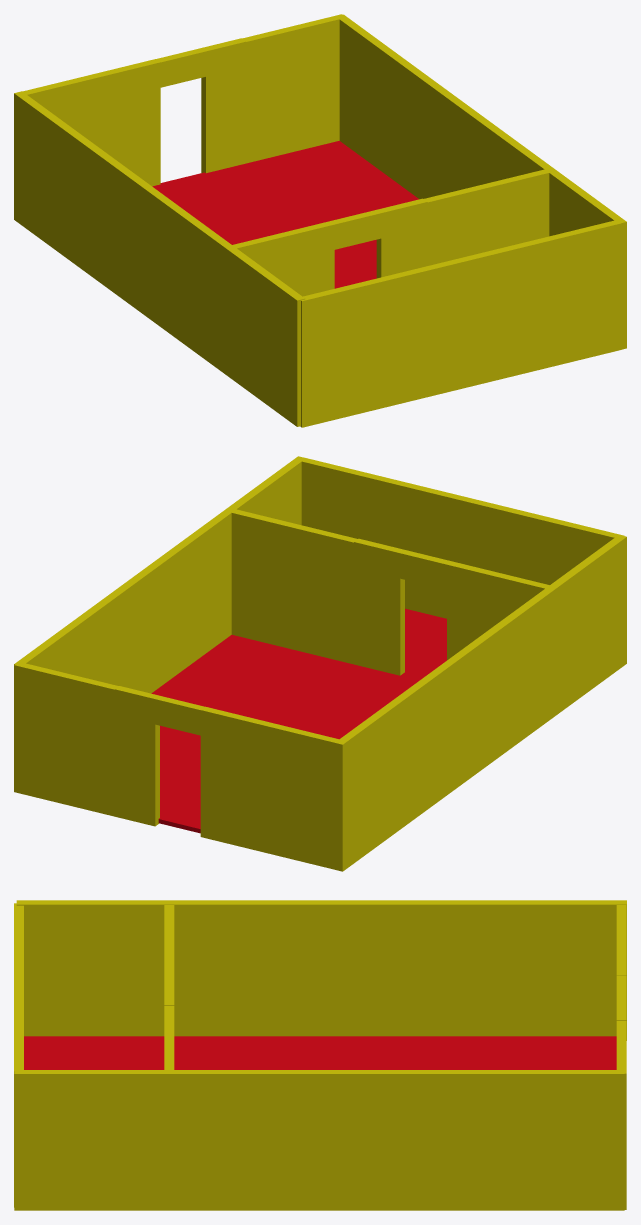
The model's file is floor.dae.
3 views of the same model, one above another, from view 1: azimuth 30°, elevation 25°; view 2: azimuth 150°, elevation 25°; view 3: azimuth 270°, elevation 25° (orthographic). The views are drawn at different scales.
Parts seen in each view (by area): view 1: Cube_002, Cube_004, Cube_003, Cube_001, Cube, Cube_007, Cube_005, Cube_008, Cube_009, Cube_006; view 2: Cube_004, Cube_003, Cube, Cube_007, Cube_002, Cube_001, Cube_005, Cube_008, Cube_006, Cube_009; view 3: Cube_003, Cube_004, Cube, Cube_002, Cube_001, Cube_005, Cube_007, Cube_008, Cube_009, Cube_006.
Boxes of the visible parts, bbox=[...] form: Cube_002: bbox=[300, 220, 621, 427]; Cube_004: bbox=[14, 91, 305, 426]; Cube_003: bbox=[336, 14, 626, 349]; Cube_001: bbox=[201, 14, 345, 173]; Cube: bbox=[152, 141, 418, 288]; Cube_007: bbox=[376, 168, 554, 278]; Cube_005: bbox=[22, 59, 160, 186]; Cube_008: bbox=[232, 221, 334, 296]; Cube_009: bbox=[269, 198, 427, 261]; Cube_006: bbox=[119, 38, 246, 94]; Cube_004: bbox=[334, 535, 626, 871]; Cube_003: bbox=[14, 456, 304, 693]; Cube: bbox=[151, 608, 446, 833]; Cube_007: bbox=[225, 507, 404, 675]; Cube_002: bbox=[299, 457, 624, 618]; Cube_001: bbox=[14, 662, 159, 826]; Cube_005: bbox=[200, 706, 338, 869]; Cube_008: bbox=[447, 561, 549, 660]; Cube_006: bbox=[114, 686, 242, 745]; Cube_009: bbox=[354, 538, 477, 597]; Cube_003: bbox=[14, 1070, 624, 1210]; Cube_004: bbox=[16, 900, 626, 1040]; Cube: bbox=[24, 1036, 616, 1069]; Cube_002: bbox=[14, 903, 23, 1207]; Cube_001: bbox=[616, 1021, 626, 1209]; Cube_005: bbox=[616, 905, 626, 975]; Cube_007: bbox=[164, 1006, 174, 1073]; Cube_008: bbox=[164, 905, 174, 956]; Cube_009: bbox=[164, 956, 174, 1005]; Cube_006: bbox=[616, 975, 626, 1020].
Bounding box in the file's own units: 16.31 × 24.44 × 6.04.
